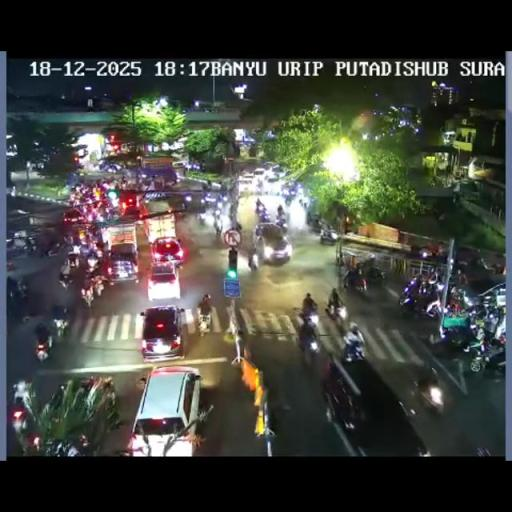Car: (127, 365, 203, 455), (138, 304, 186, 361), (253, 222, 292, 265), (146, 260, 182, 302), (107, 242, 141, 284), (150, 236, 184, 267), (476, 280, 506, 310), (116, 190, 142, 216), (454, 246, 480, 266), (62, 207, 84, 228), (267, 164, 287, 180), (98, 160, 124, 172), (200, 191, 218, 208), (238, 173, 254, 192), (252, 167, 267, 186)
Motorcycle: (323, 378, 360, 432), (399, 280, 444, 320), (435, 310, 476, 351), (466, 332, 504, 374), (412, 366, 444, 412), (116, 427, 151, 456), (297, 320, 321, 362), (47, 435, 87, 457), (46, 380, 66, 414), (340, 336, 366, 362), (480, 306, 502, 336), (10, 400, 28, 436), (96, 376, 116, 406), (447, 286, 469, 312), (78, 239, 101, 263), (363, 262, 385, 286), (198, 294, 212, 331), (20, 430, 42, 452), (326, 298, 346, 322), (231, 327, 245, 361), (80, 280, 96, 308), (34, 334, 50, 362), (52, 314, 70, 338), (318, 225, 338, 245), (422, 267, 439, 290), (351, 272, 367, 294), (302, 292, 316, 316), (413, 439, 432, 456), (58, 268, 72, 290), (100, 202, 117, 220), (23, 236, 38, 256), (93, 276, 106, 298), (308, 215, 323, 233), (451, 268, 466, 286), (16, 278, 28, 300), (36, 240, 50, 258), (256, 208, 271, 223), (67, 251, 79, 269), (229, 206, 238, 228), (248, 252, 258, 270), (275, 215, 287, 229), (490, 262, 504, 274), (62, 234, 73, 248), (197, 210, 206, 226), (298, 195, 308, 209), (284, 193, 294, 206), (214, 220, 222, 236), (141, 178, 150, 192), (277, 204, 284, 216), (201, 181, 210, 190), (236, 221, 242, 231)
